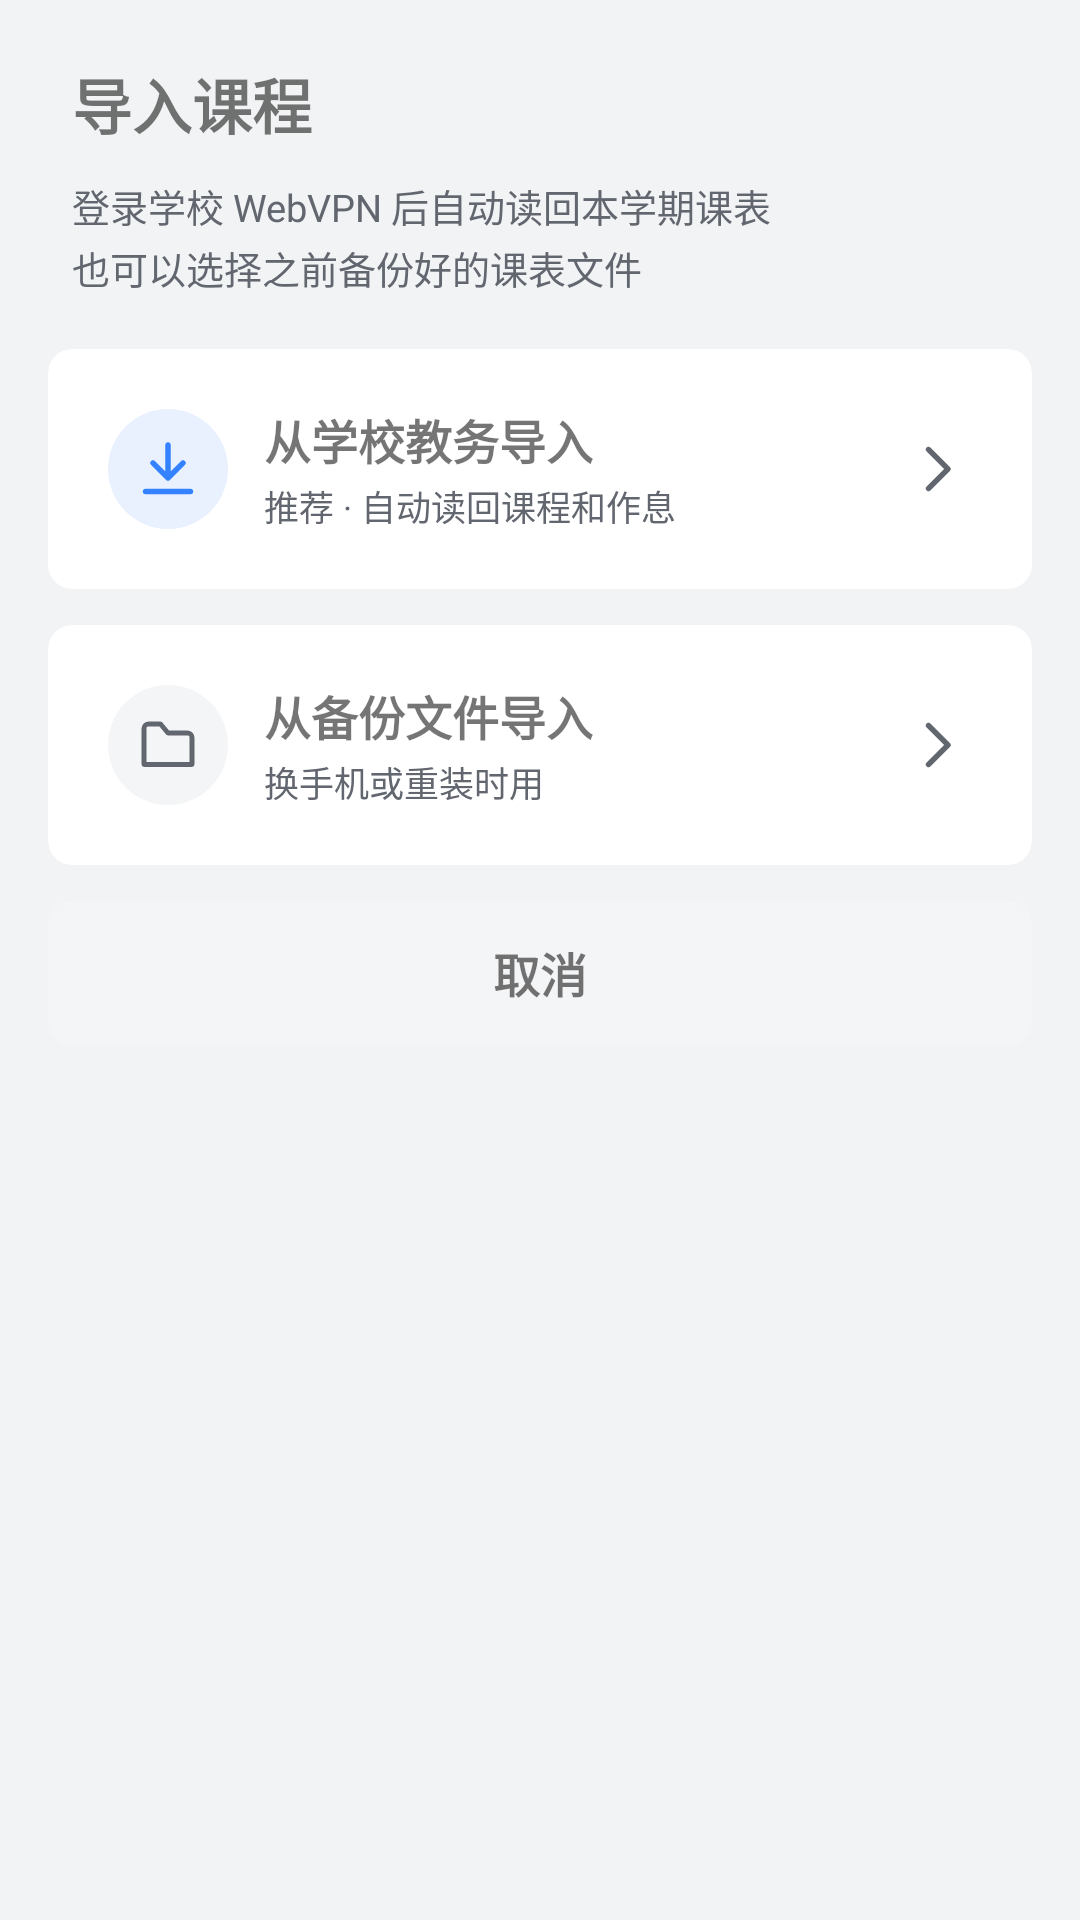

Icons on this 1080px×1920px Android screen, each with the point to tap as (x,y):
chevron right: (938,469), (938,745)
import cloud: (168,469)
import file: (168,745)
